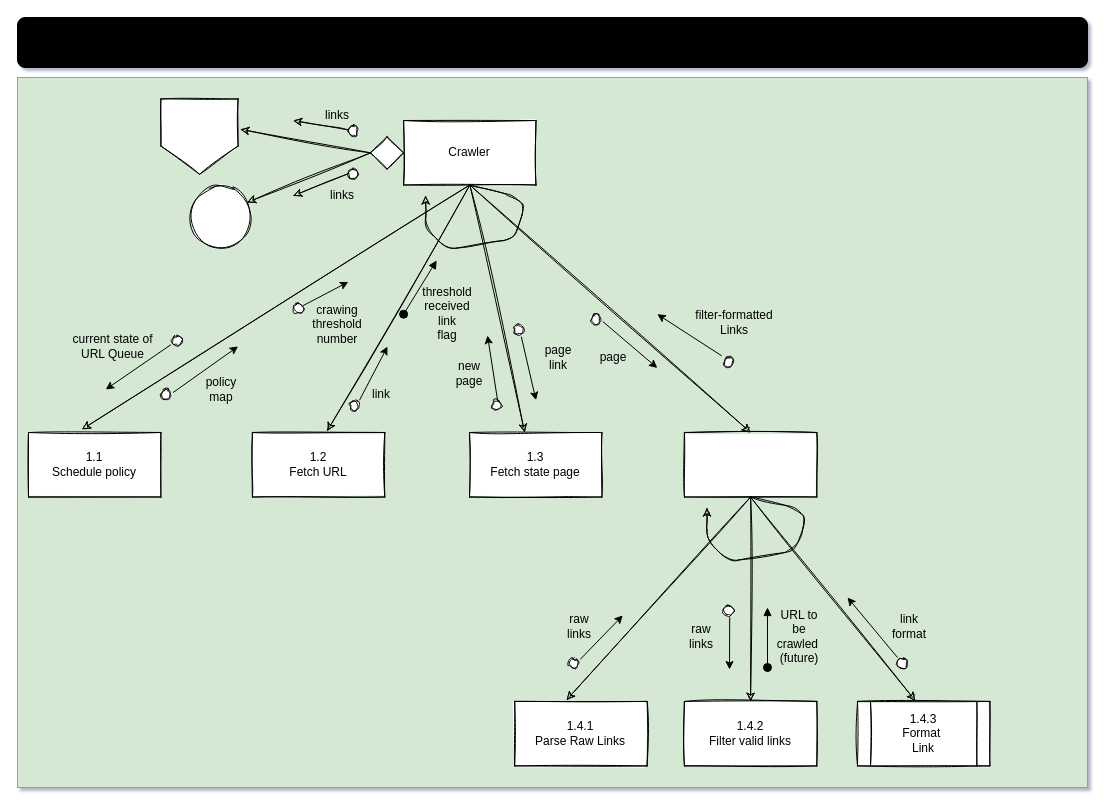
Some shapes in this 1111 by 811 pixel diagram are drawn without their labels. Here are the shapes that lost their labels. From the top down, the centre of each, then its label:
At (552,42): "18101140 Sowat Hossain Rafi Sec: 07".
At (199,136): "Reshedule Policy".
At (220,216): "Update URL Queue".
At (750,464): "1.4 Extract URL".
